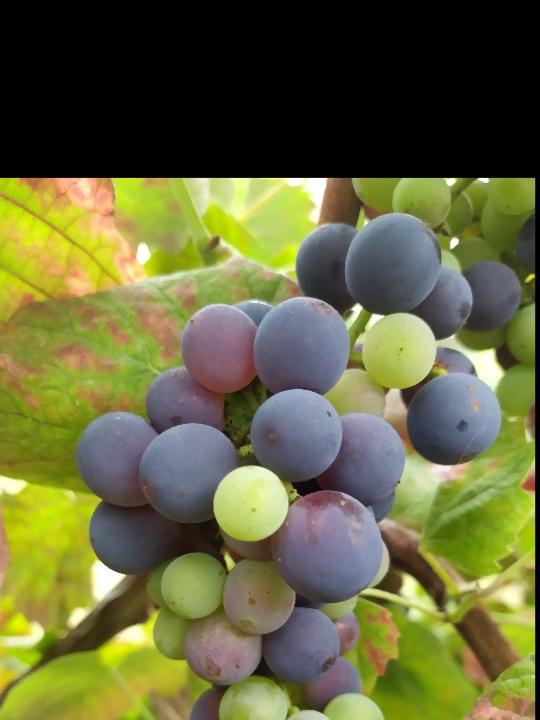grape: (71, 295, 410, 720)
